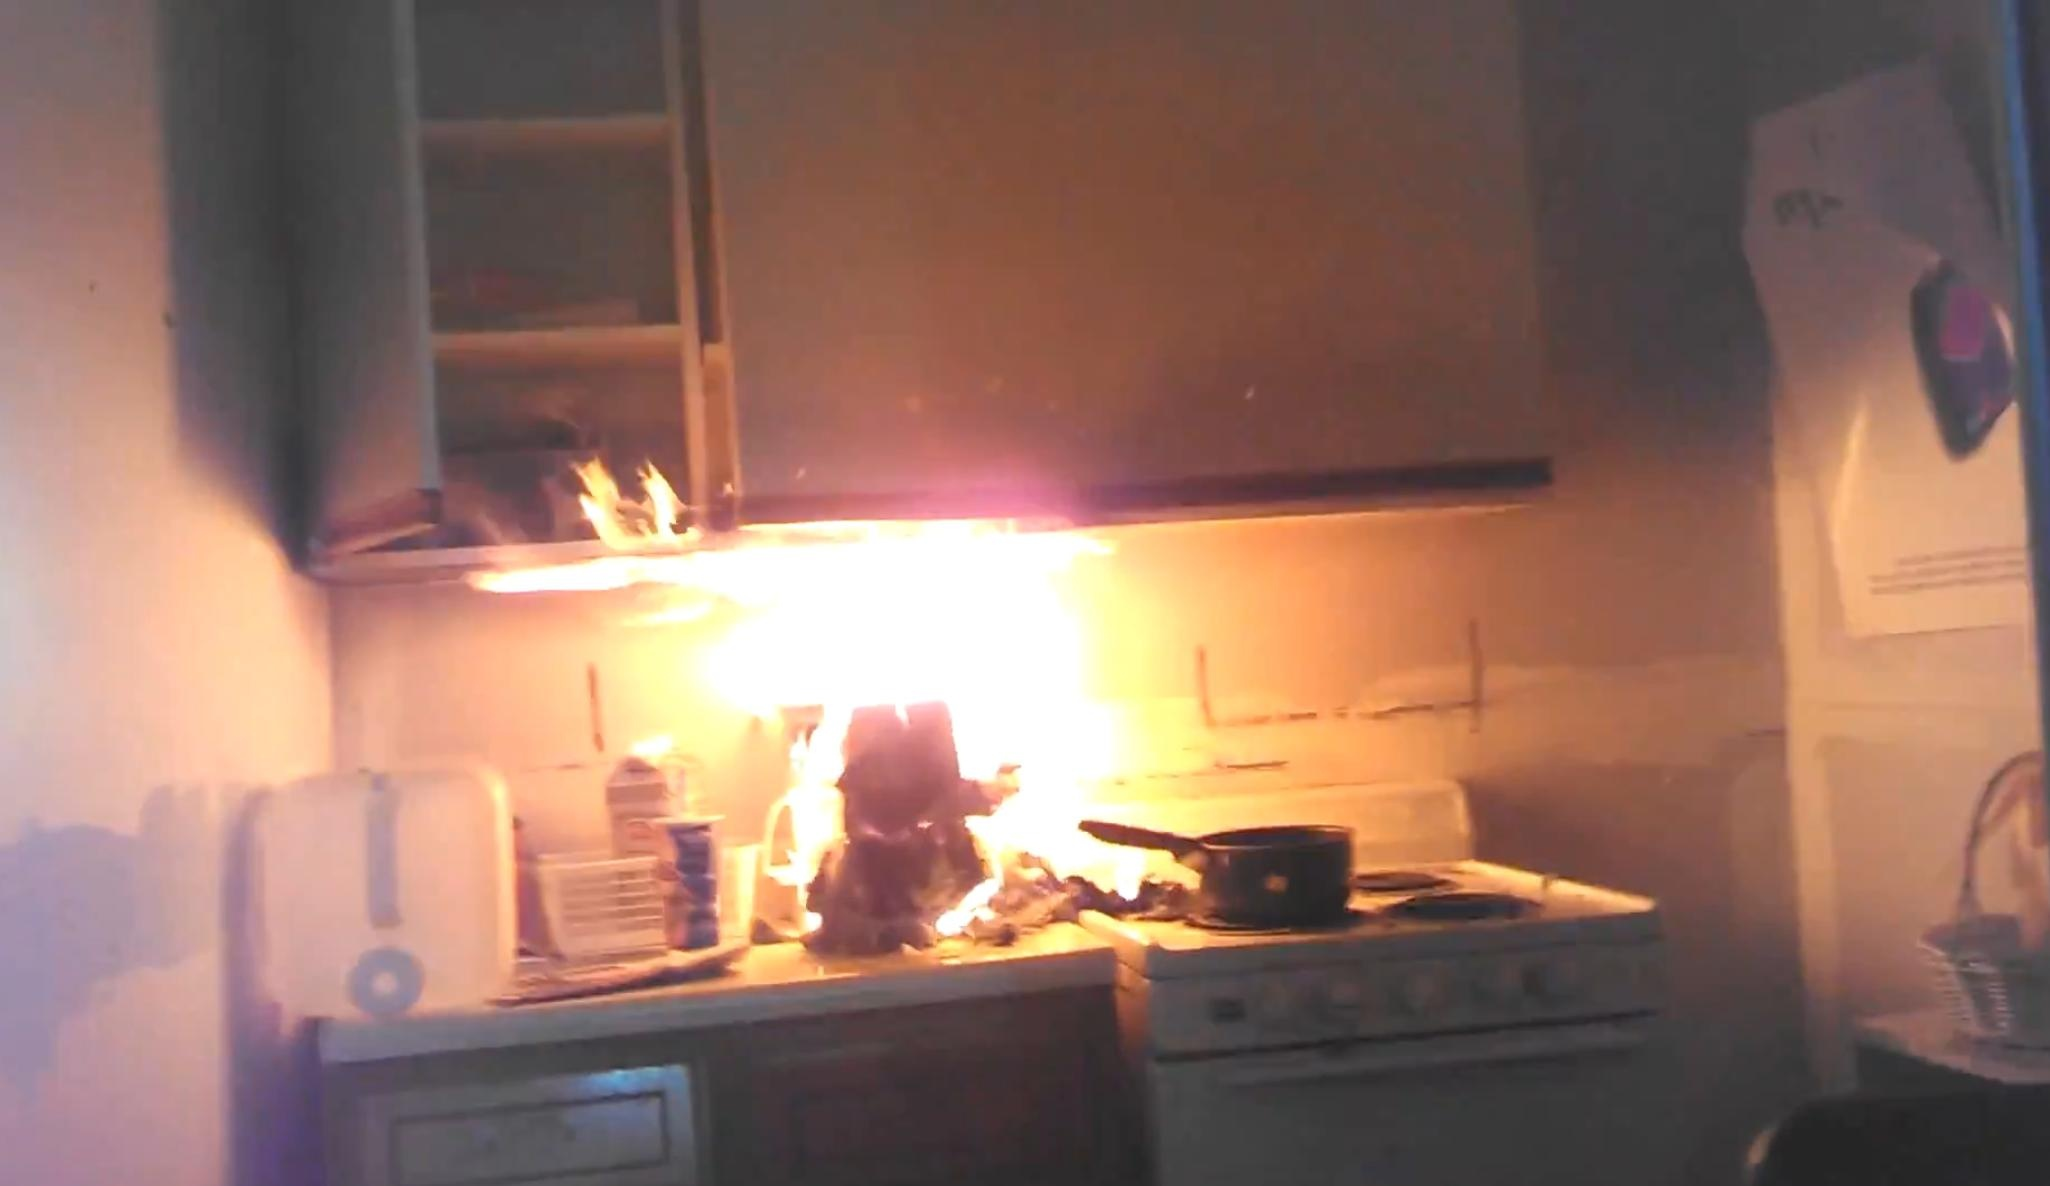fire: (464, 462, 1199, 956)
